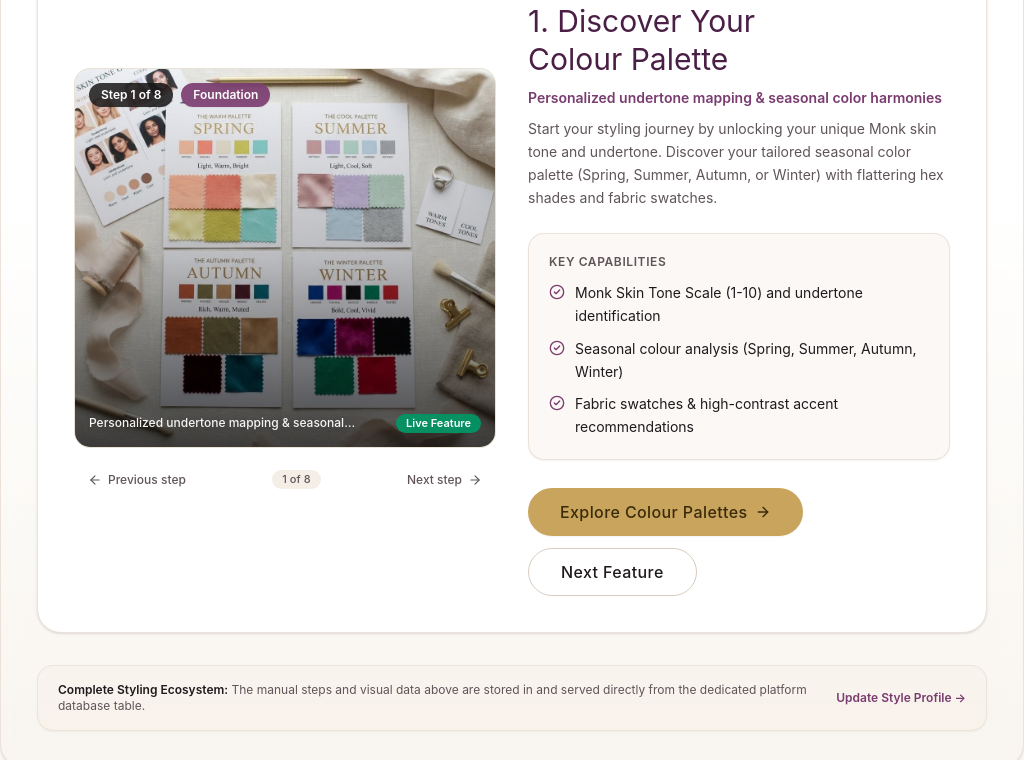
HowItWorksManual (Home Page Website Manual) › navigates next and previous steps with buttons
This screenshot has width=1024, height=760.
(page scrolled)
Expected: the heading "1. Discover Your Colour Palette" is shown, x1=528 y1=3 x2=755 y2=77
What coordinates should you click on to do the following:
click the button "Next step"
I would click on:
 (444, 480)
Its box is x1=397 y1=466 x2=492 y2=494.
(page scrolled)
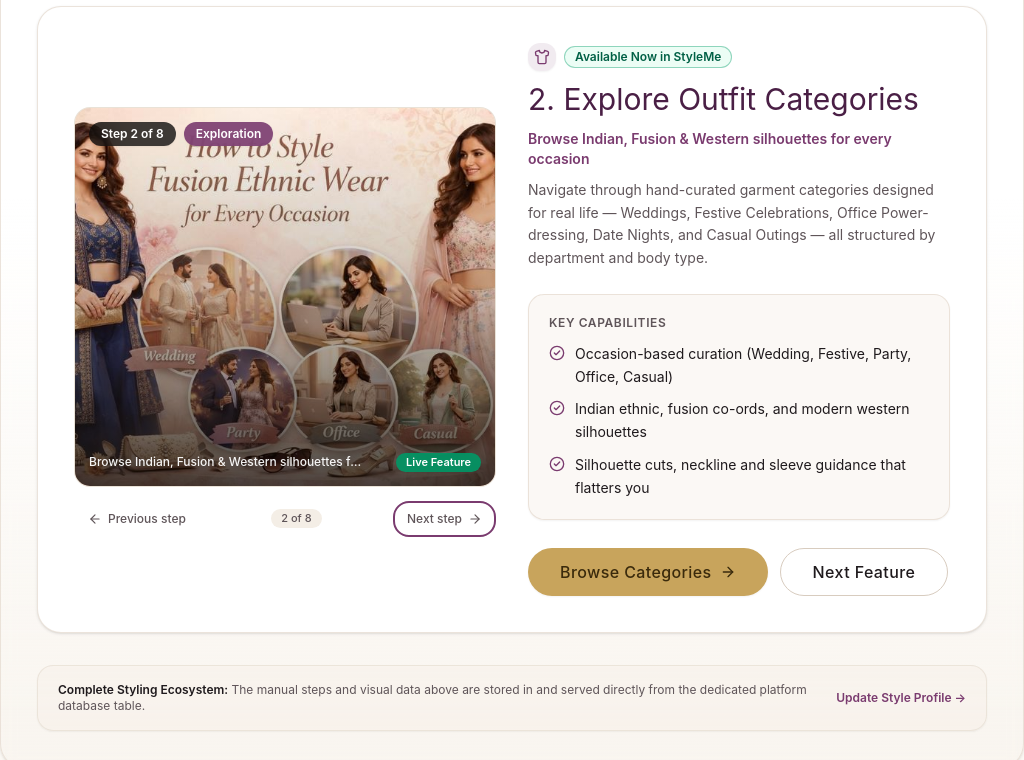
Result: the heading "2. Explore Outfit Categories" is shown at x1=528 y1=81 x2=950 y2=119
What coordinates should you click on to do the following:
click the button "Previous step"
I would click on:
 (137, 519)
Its box is x1=78 y1=505 x2=196 y2=533.
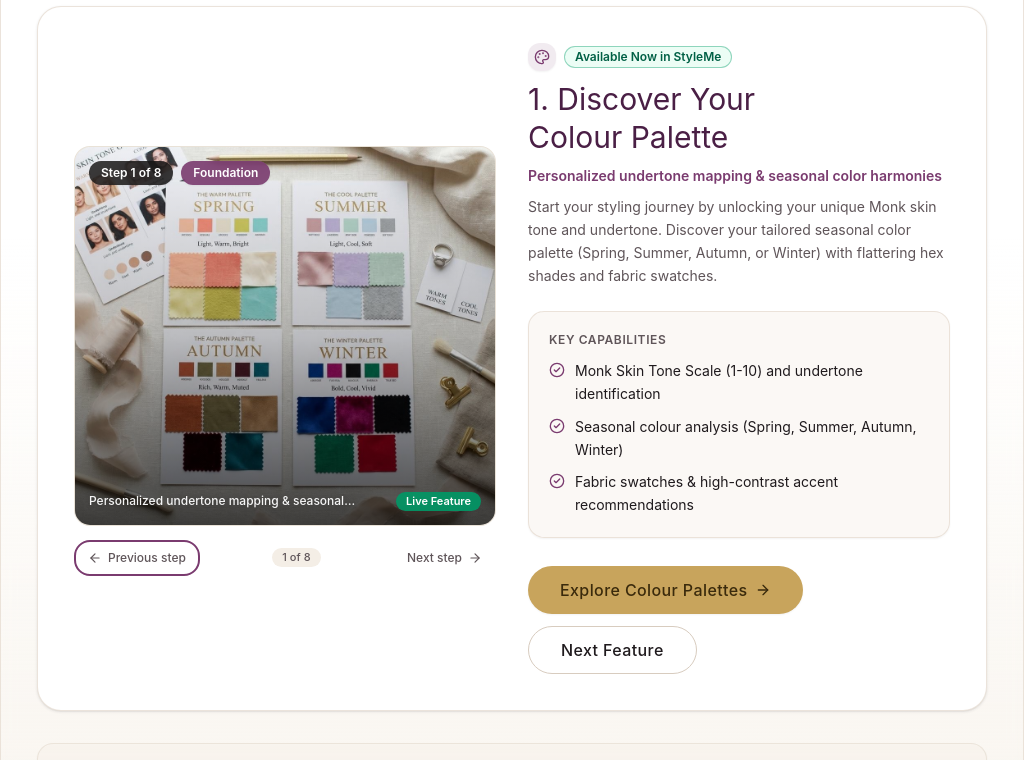
Result: the heading "1. Discover Your Colour Palette" is shown at x1=528 y1=81 x2=755 y2=155
